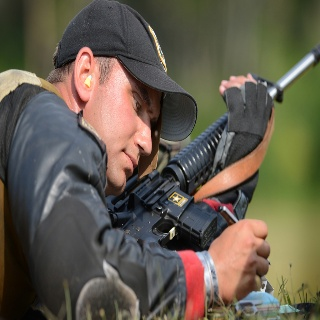rifle: (102, 42, 320, 248)
